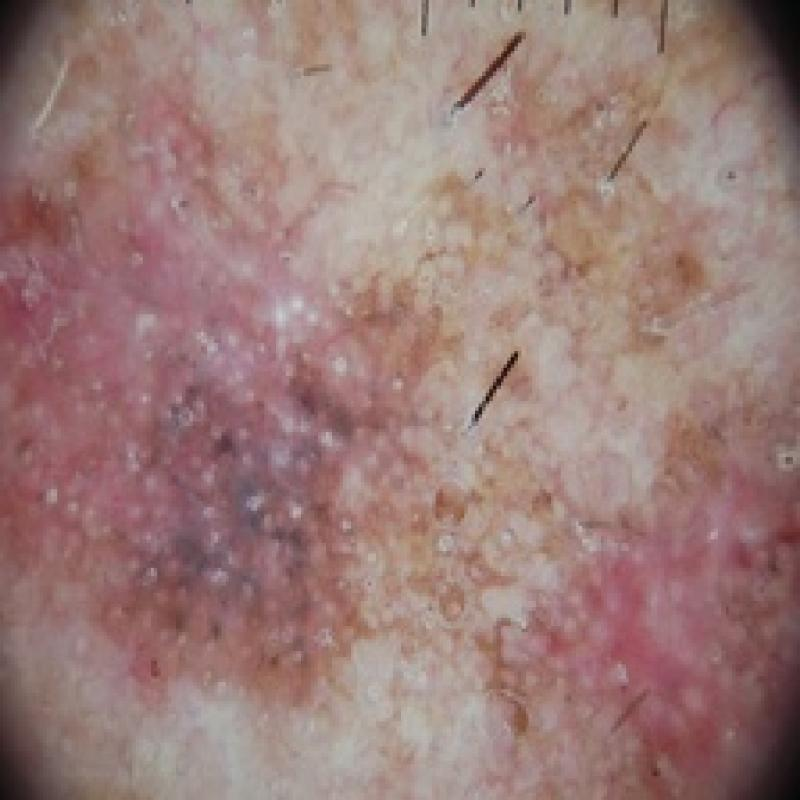malignant: (0, 68, 450, 715)
